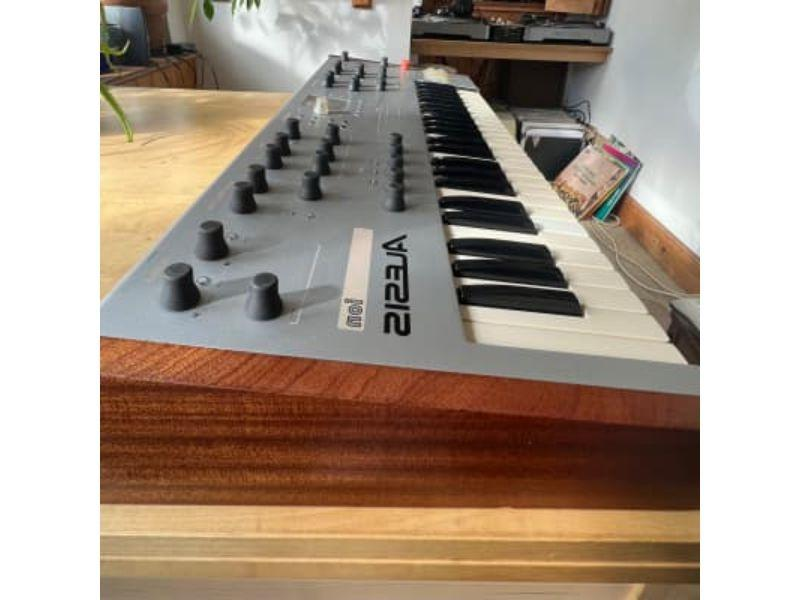synthesizer: (115, 38, 688, 513)
